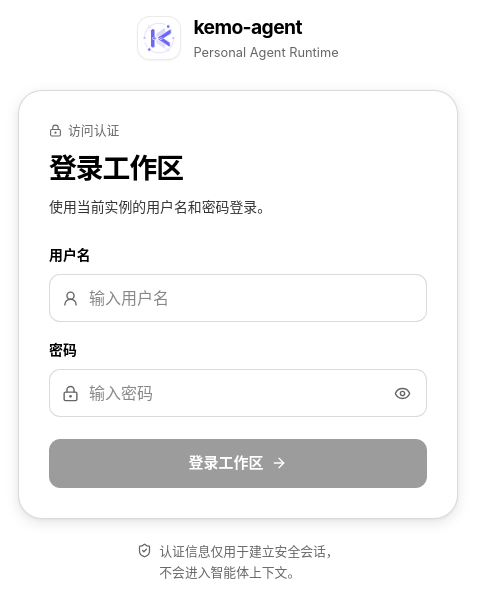
it: AuthPage › 支持 密码 显隐且不触发表单提交
In the password field labelled "密码": (232,393) [89,370,374,416], type "test-only-secret"
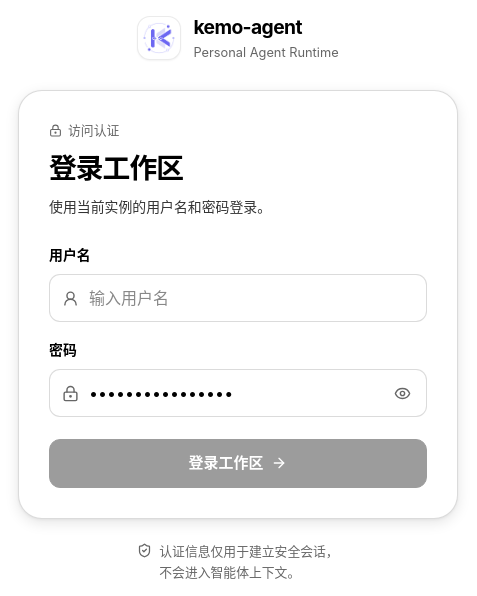
Click the button named "显示密码": (402,393) [384,373,420,413]
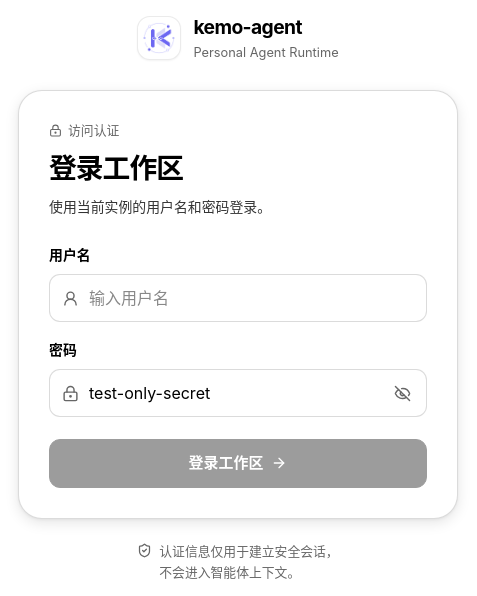
Now the field labelled "密码" shows its text, box [89,370,374,416]
Click the button named "隐藏密码": (402,393) [384,373,420,413]
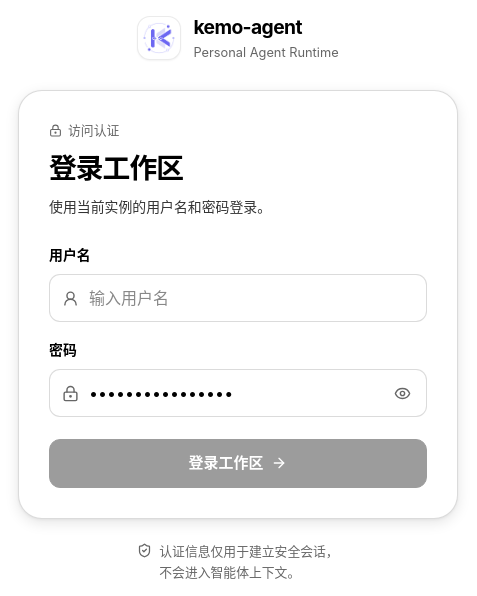
Now the password field labelled "密码" hides its text, box [89,370,374,416]
